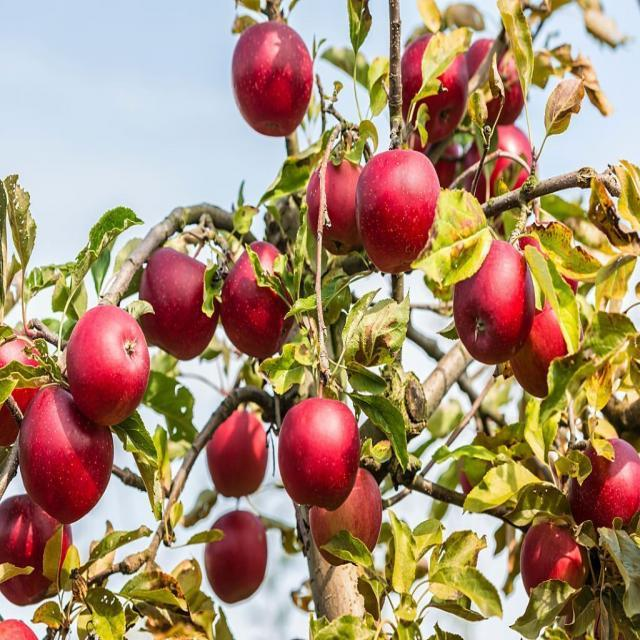Red Apple: (25, 378, 116, 515), (68, 299, 153, 428), (357, 156, 437, 275), (236, 17, 318, 133), (459, 241, 535, 357), (280, 399, 360, 507), (222, 238, 297, 349), (145, 242, 218, 354), (1, 490, 73, 603), (308, 461, 385, 562), (509, 296, 588, 394), (396, 37, 470, 135), (575, 430, 640, 534), (514, 212, 585, 306), (472, 119, 540, 217), (308, 156, 370, 255), (521, 512, 587, 602), (209, 508, 269, 605), (461, 24, 526, 113), (420, 130, 483, 203), (213, 409, 268, 491)
